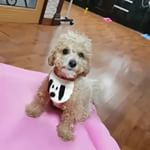puppy: (22, 28, 101, 141)
